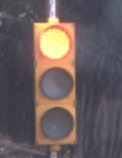Red: (26, 17, 83, 150)
